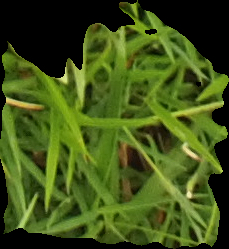grass: (1, 1, 228, 248)
